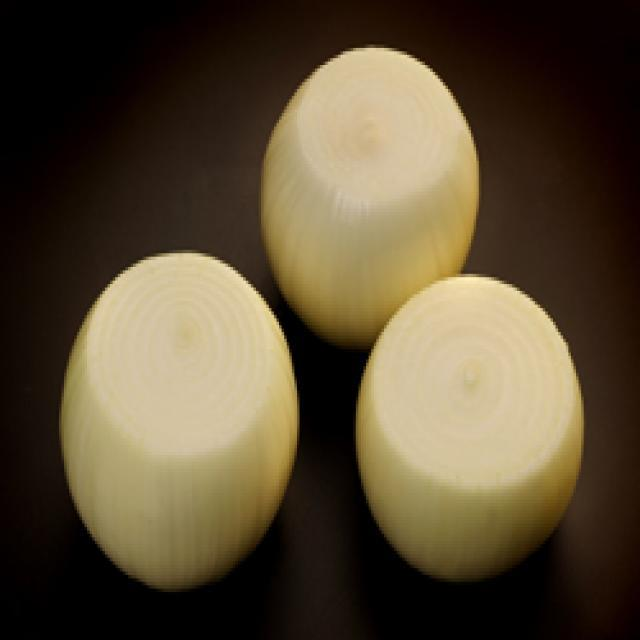onion: (61, 243, 296, 596), (351, 270, 586, 588), (259, 47, 478, 348)
